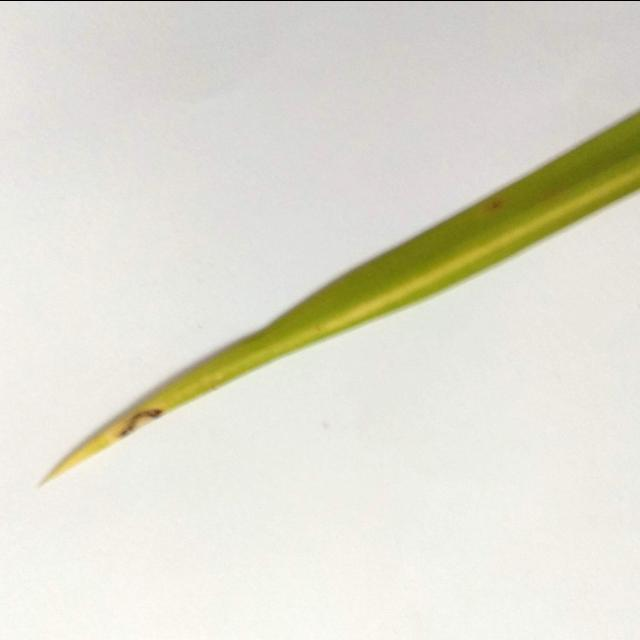Leaf blast: (37, 92, 640, 538)
